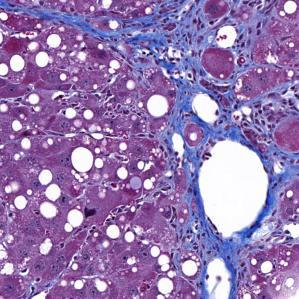fibrosis: (118, 12, 259, 102), (184, 220, 272, 279), (167, 113, 266, 164)
